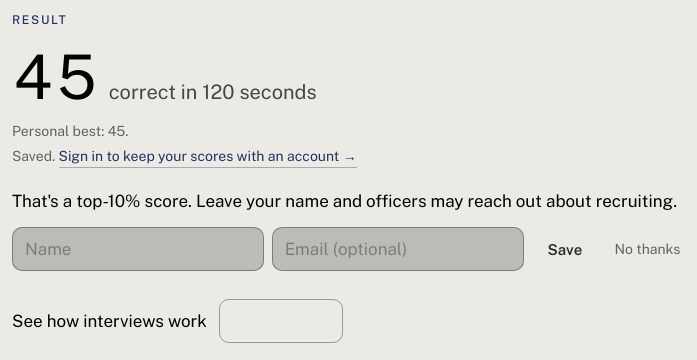
Test: Saving a result › asks a signed-out top scorer for a name in place of the note, and sends it
Type "Alex" into the field labelled "Name" at (138, 249), box [12,227,264,271]
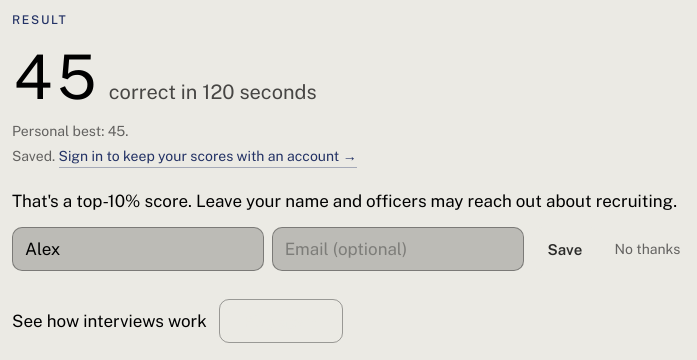
Click the button "Save" at (565, 249), box [532,227,598,271]
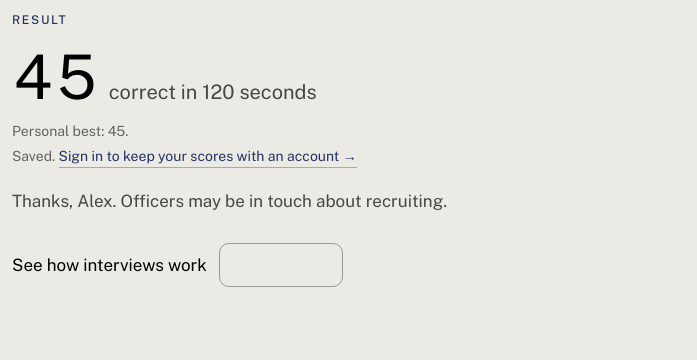
Result: the text "Thanks, Alex. Officers may be in touch about recruiting." is shown at [12,191,447,211]
